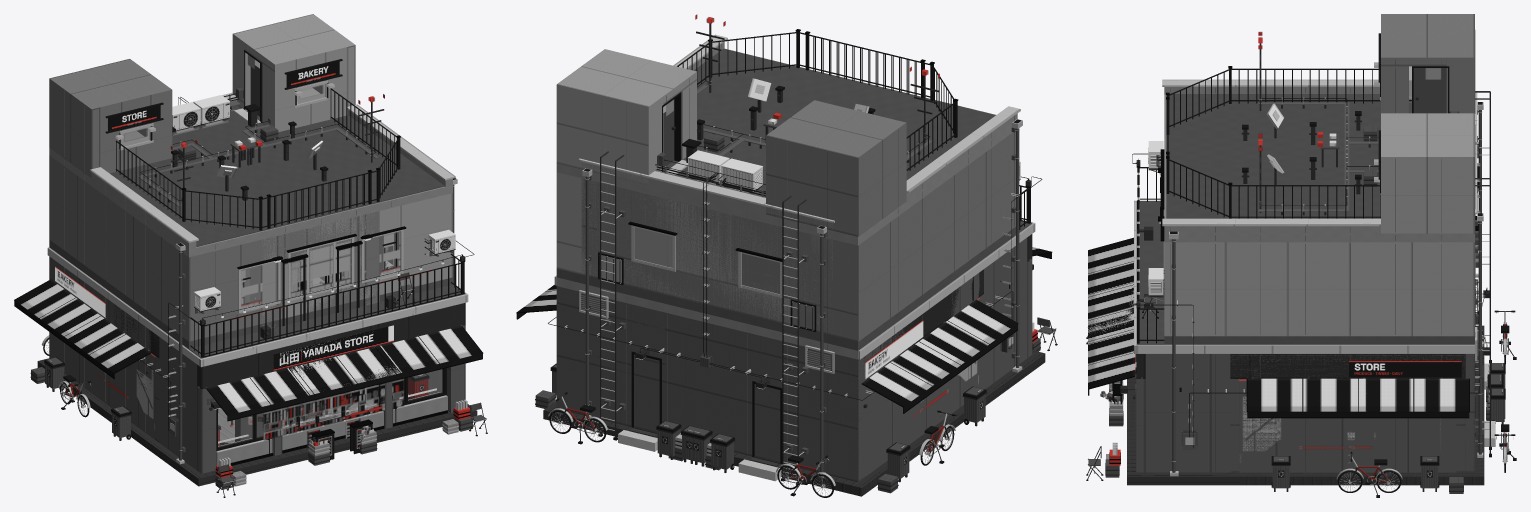
Rendered from cornershop-DAylLsX_.glb.
3 renders of one model, left to right at view 1: azimuth 30°, elevation 25°; view 2: azimuth 150°, elevation 25°; view 3: azimuth 270°, elevation 25°, orthographic. The views are drawn at different scales.
Visible parts, largest first — view 1: body_grocer, body_bakery, farBaked_grocer, farBaked_bakery, glow_grocer, glow_bakery, glass_grocer, glass_bakery, farBaked_records; view 2: body_grocer, body_bakery, glow_bakery, farBaked_bakery; view 3: body_bakery, body_grocer, glow_grocer, farBaked_grocer.
Part boxes in pixels (x1=…): body_grocer: x1=37, y1=59, x2=468, y2=497; body_bakery: x1=14, y1=14, x2=487, y2=467; farBaked_grocer: x1=107, y1=94, x2=388, y2=440; farBaked_bakery: x1=97, y1=54, x2=404, y2=447; glow_grocer: x1=108, y1=96, x2=444, y2=449; glow_bakery: x1=55, y1=59, x2=443, y2=455; glass_grocer: x1=125, y1=129, x2=377, y2=446; glass_bakery: x1=283, y1=86, x2=442, y2=424; farBaked_records: x1=121, y1=94, x2=387, y2=439; body_grocer: x1=516, y1=23, x2=1057, y2=496; body_bakery: x1=548, y1=31, x2=1035, y2=497; glow_bakery: x1=663, y1=69, x2=980, y2=389; farBaked_bakery: x1=666, y1=66, x2=978, y2=417; body_bakery: x1=1086, y1=43, x2=1516, y2=485; body_grocer: x1=1086, y1=14, x2=1516, y2=497; glow_grocer: x1=1137, y1=62, x2=1489, y2=380; farBaked_grocer: x1=1240, y1=68, x2=1441, y2=461.
Size of the model in its own units: 11.57 by 9.5 by 11.43.
6 materials, 6 textured.
